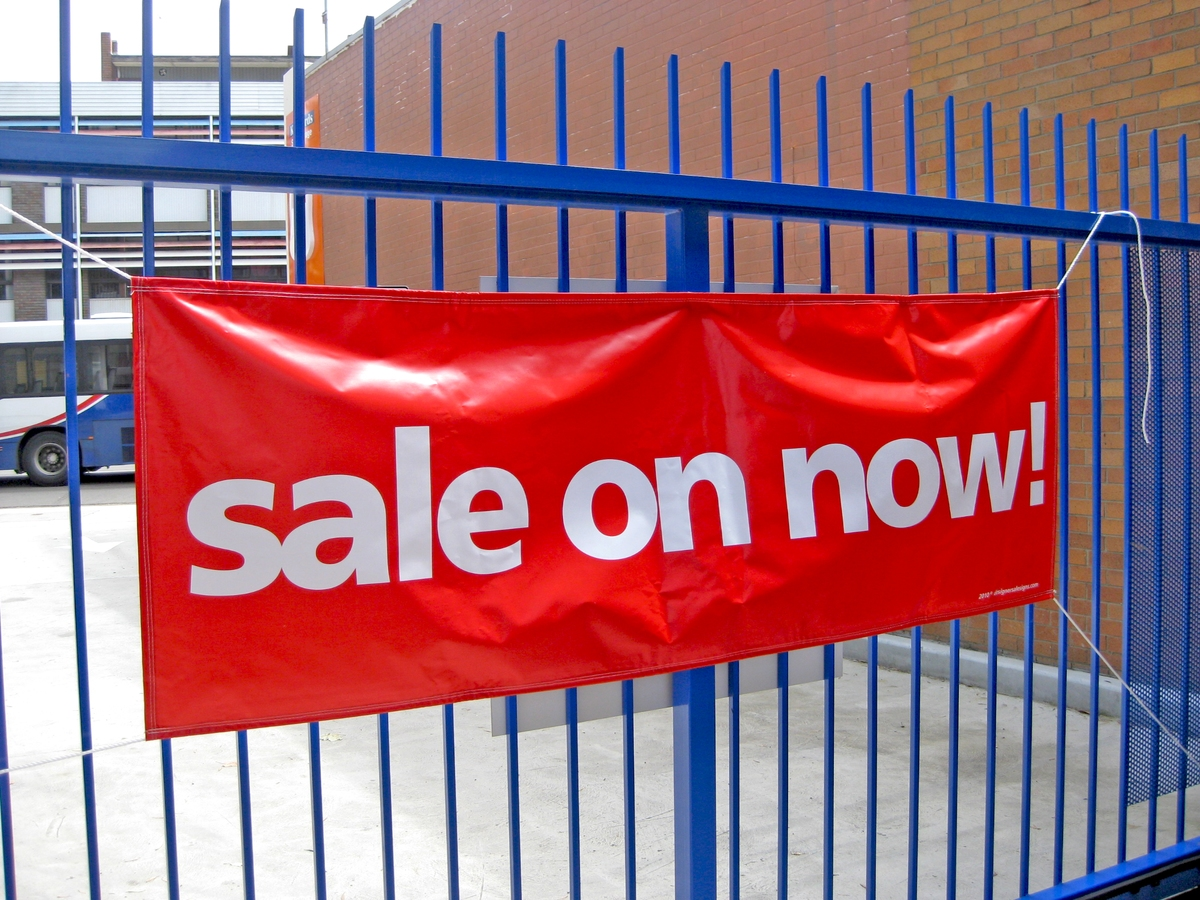vinyl banner: (95, 252, 1103, 754)
